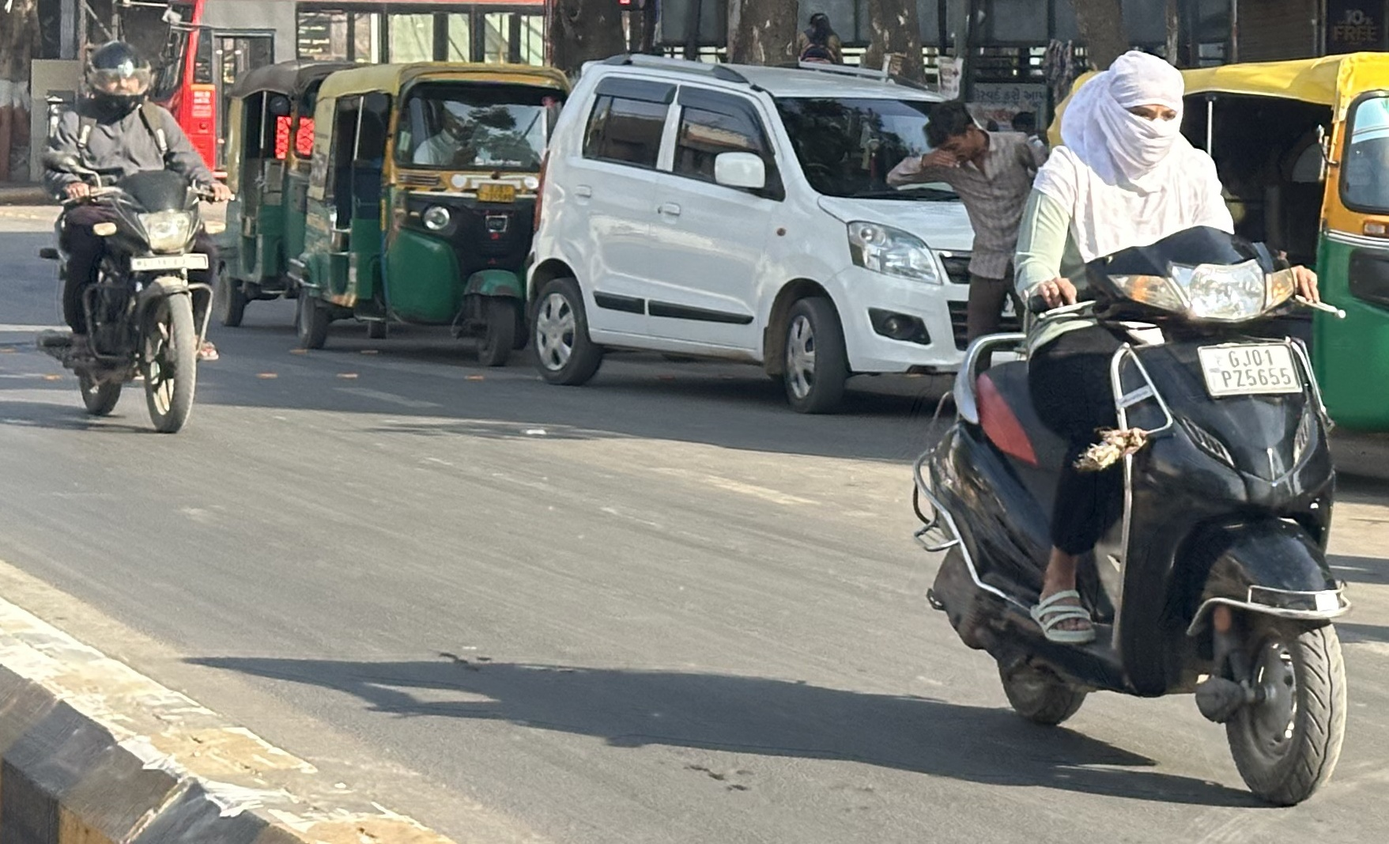BikeWithRider: (900, 44, 1361, 813), (28, 31, 241, 442)
Helmet: (74, 32, 160, 119)
NoHelmet: (1073, 45, 1196, 175)
